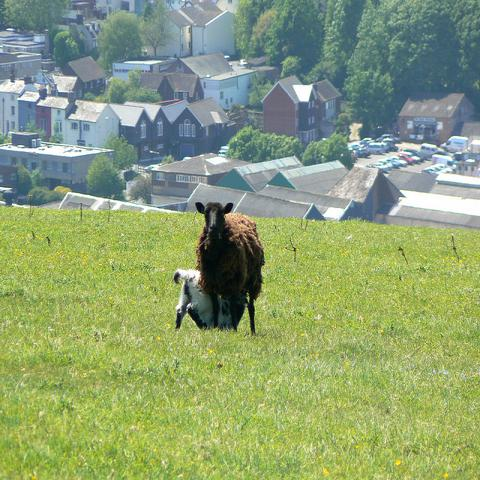car: (349, 134, 447, 172), (432, 154, 456, 170), (398, 151, 420, 165), (419, 143, 438, 158), (403, 149, 424, 161), (364, 143, 384, 155), (381, 141, 398, 151), (354, 149, 371, 158), (394, 156, 407, 167), (375, 163, 389, 173), (387, 158, 399, 168), (382, 161, 393, 168), (376, 137, 382, 142)
truck: (440, 134, 468, 152)
